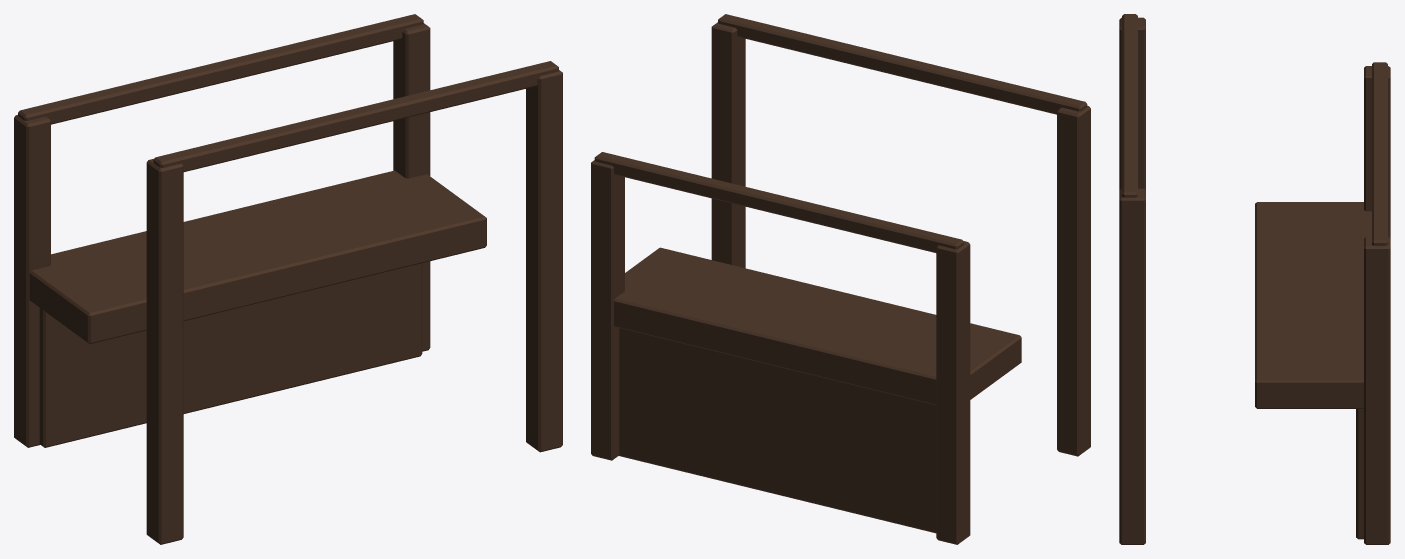
The model's file is market_stall_frame.fbx.
3 views of the same model, side by side, from view 1: azimuth 30°, elevation 25°; view 2: azimuth 150°, elevation 25°; view 3: azimuth 270°, elevation 25° (orthographic). The views are drawn at different scales.
Visible parts, largest first — view 1: market_stall_frame; view 2: market_stall_frame; view 3: market_stall_frame.
Boxes of the visible parts, bbox=[...] form: market_stall_frame: bbox=[14, 14, 562, 544]; market_stall_frame: bbox=[591, 14, 1090, 544]; market_stall_frame: bbox=[1119, 14, 1390, 544].
Bounding box in the file's own units: 810 × 730 × 510.
